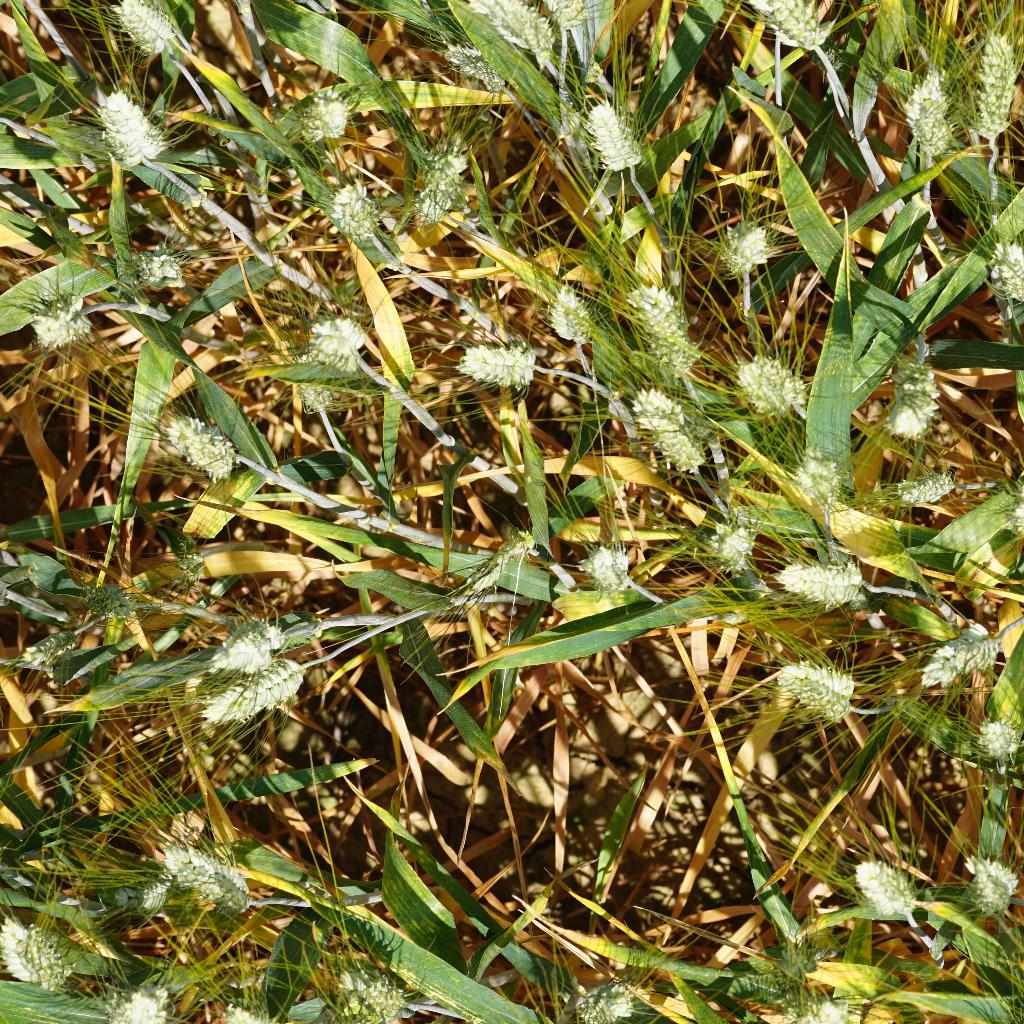0-0: (604, 264, 718, 367), (191, 654, 324, 727), (616, 387, 712, 484), (150, 838, 261, 918), (963, 10, 1024, 150), (141, 403, 242, 484), (768, 651, 873, 727), (442, 526, 541, 604), (406, 123, 479, 228), (894, 59, 957, 176), (86, 81, 171, 167), (0, 907, 86, 990), (714, 208, 784, 305), (844, 840, 922, 927), (916, 608, 998, 690), (324, 957, 424, 1024), (777, 544, 879, 609), (196, 608, 292, 676), (885, 337, 946, 440), (877, 449, 967, 518), (579, 100, 651, 183), (463, 0, 562, 59), (301, 309, 378, 384), (281, 83, 369, 148), (317, 172, 399, 240), (735, 340, 811, 413), (447, 336, 541, 395), (744, 982, 869, 1024), (103, 0, 186, 59), (781, 436, 851, 505), (747, 0, 839, 52), (27, 281, 94, 348), (435, 37, 510, 96), (580, 538, 646, 605), (279, 344, 337, 415), (960, 849, 1023, 914), (103, 975, 186, 1024), (702, 508, 762, 572), (761, 935, 827, 991), (131, 238, 193, 295), (549, 283, 601, 350), (571, 975, 642, 1024), (983, 232, 1024, 316), (88, 571, 144, 625), (748, 0, 795, 61), (972, 724, 1024, 778), (25, 624, 80, 674), (111, 873, 175, 915), (542, 0, 610, 36), (168, 547, 214, 585)
